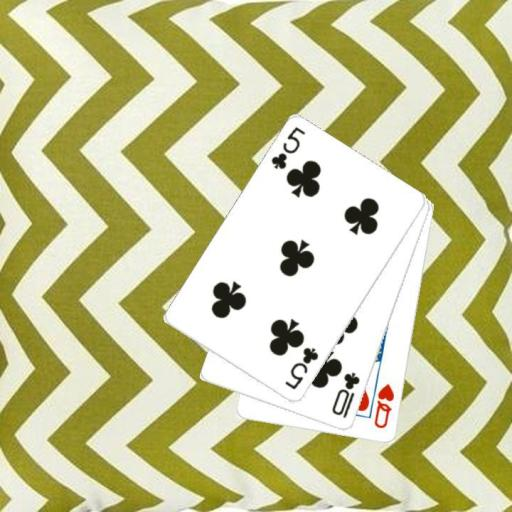10C: (328, 369, 362, 420)
5C: (282, 344, 321, 392), (268, 124, 307, 171)
QH: (371, 381, 396, 430)
